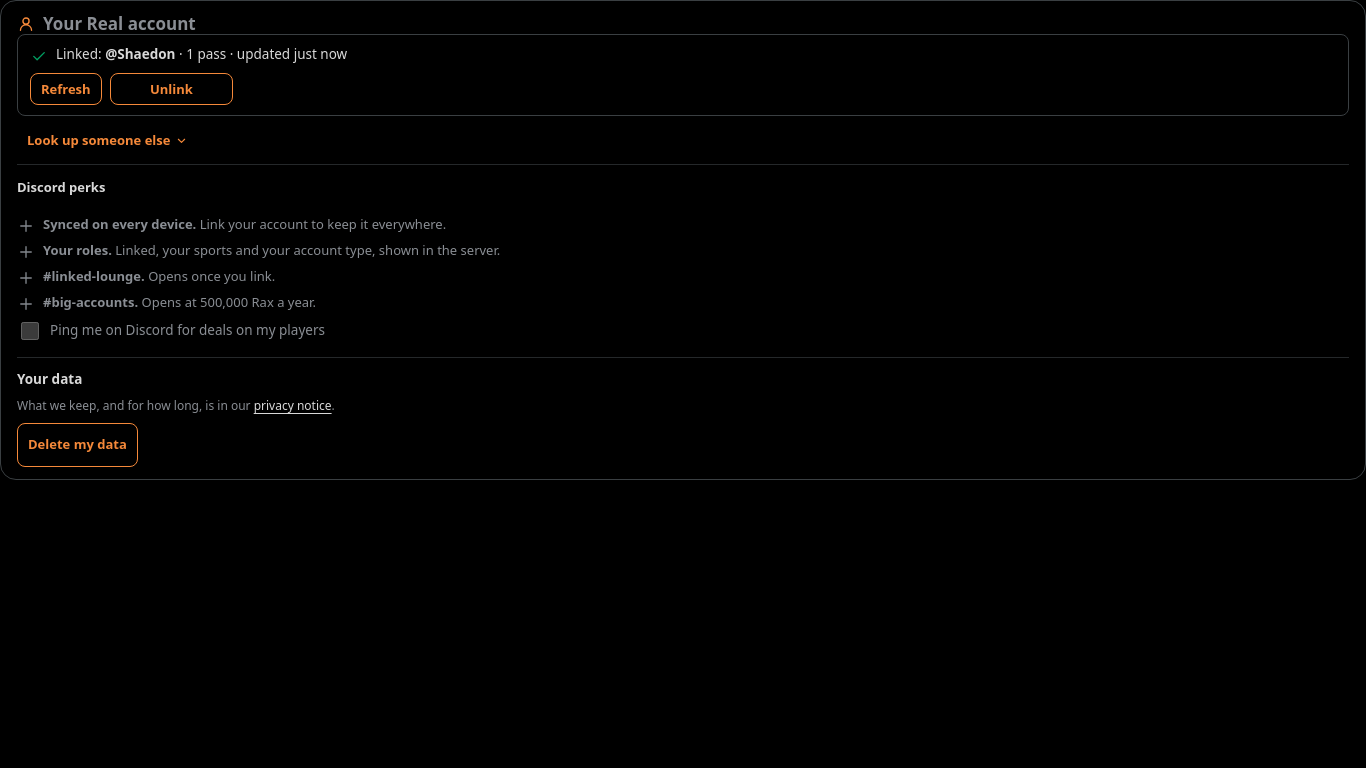
Scenario: Unlink: what the member sees › a timeout answer says why, in the chip, and the button offers Try again
The image size is (1366, 768).
Click the button "Unlink" at (171, 89), box x1=110 y1=73 x2=233 y2=105
Wait 16000 ms
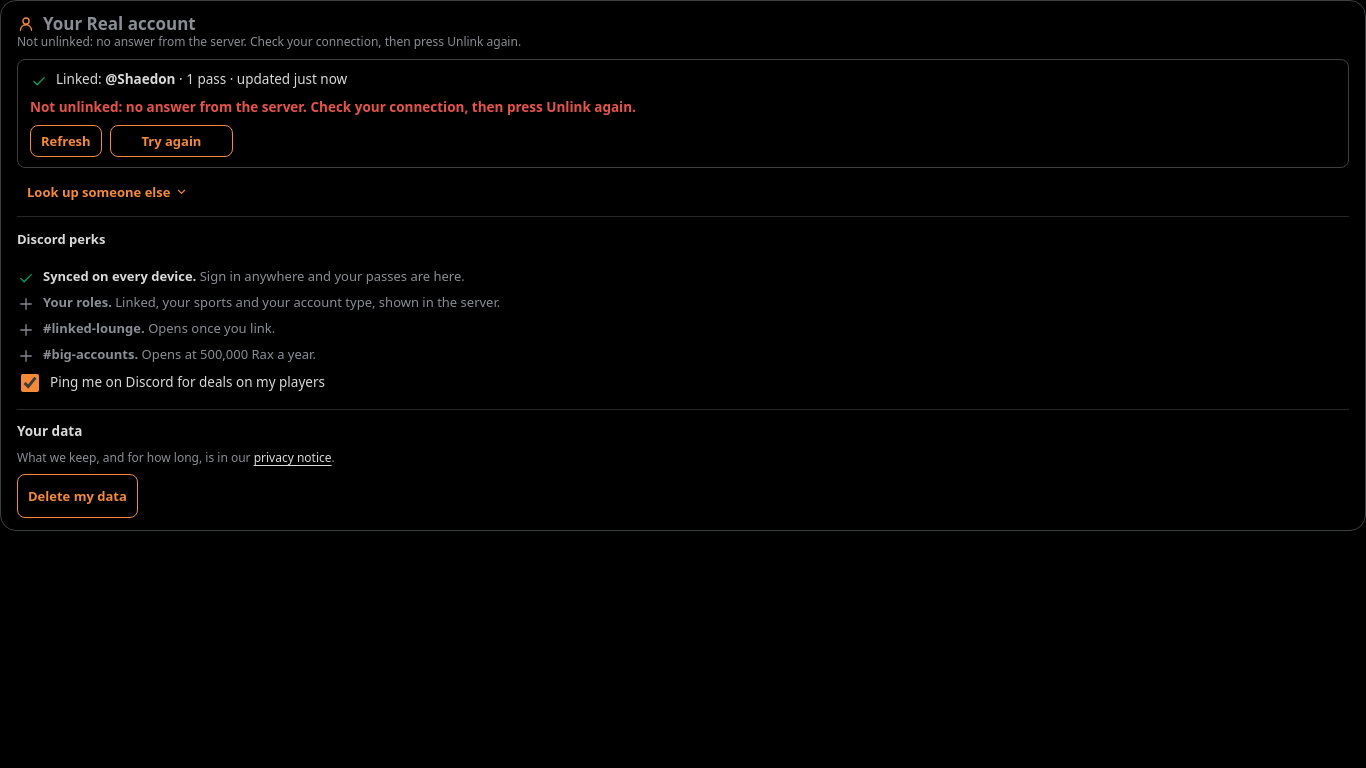
Expected: the button "Try again" is enabled, x1=110 y1=125 x2=233 y2=157
Expected: the message below "Shaedon" shows "no answer", x1=30 y1=98 x2=636 y2=116
